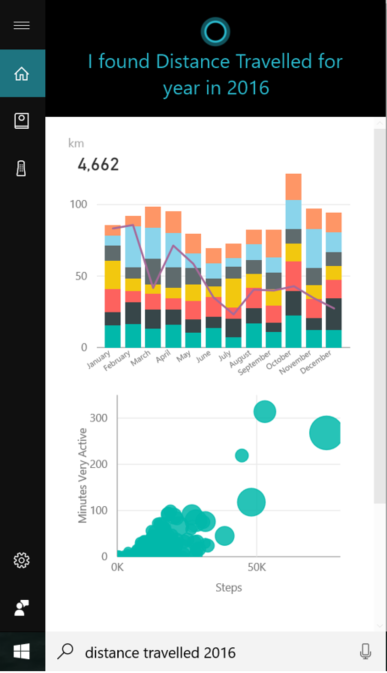

The dashboard page shown, as its layout file describes it:
{"tool":"powerbi","page":{"name":"Distance Travelled","canvas":[296,592],"ordinal":0},"visuals":[{"type":"lineStackedColumnComboChart","fields":{"Category":["dataofme.month"],"Y":["Avg(dataofme.distance)"],"Y2":["Avg(dataofme.floors)"],"Series":["dataofme.day"]},"box":[1,0,294,256],"z":1},{"type":"card","fields":{"Values":["Sum(dataofme.distance)"]},"box":[0,0,71,42],"z":2},{"type":"scatterChart","fields":{"X":["Sum(dataofme.steps)"],"Y":["Sum(dataofme.vigourousIntensityMinutes)"],"Size":["Sum(dataofme.floors)"],"Category":["dataofme.date"]},"box":[2,250,293,222],"z":3}]}

Visuals, with their boxes on the page's 296x592 design canvas (x1, y1, x2, y2). These are canvas units, not pixel positions in the 387x673 screenshot, which may show the page scaled, cropped or inside an application window:
lineStackedColumnComboChart - dataofme.month x Avg(dataofme.distance): box=[1, 0, 295, 256]
card - Sum(dataofme.distance): box=[0, 0, 71, 42]
scatterChart - Sum(dataofme.steps) x Sum(dataofme.vigourousIntensityMinutes): box=[2, 250, 295, 472]
